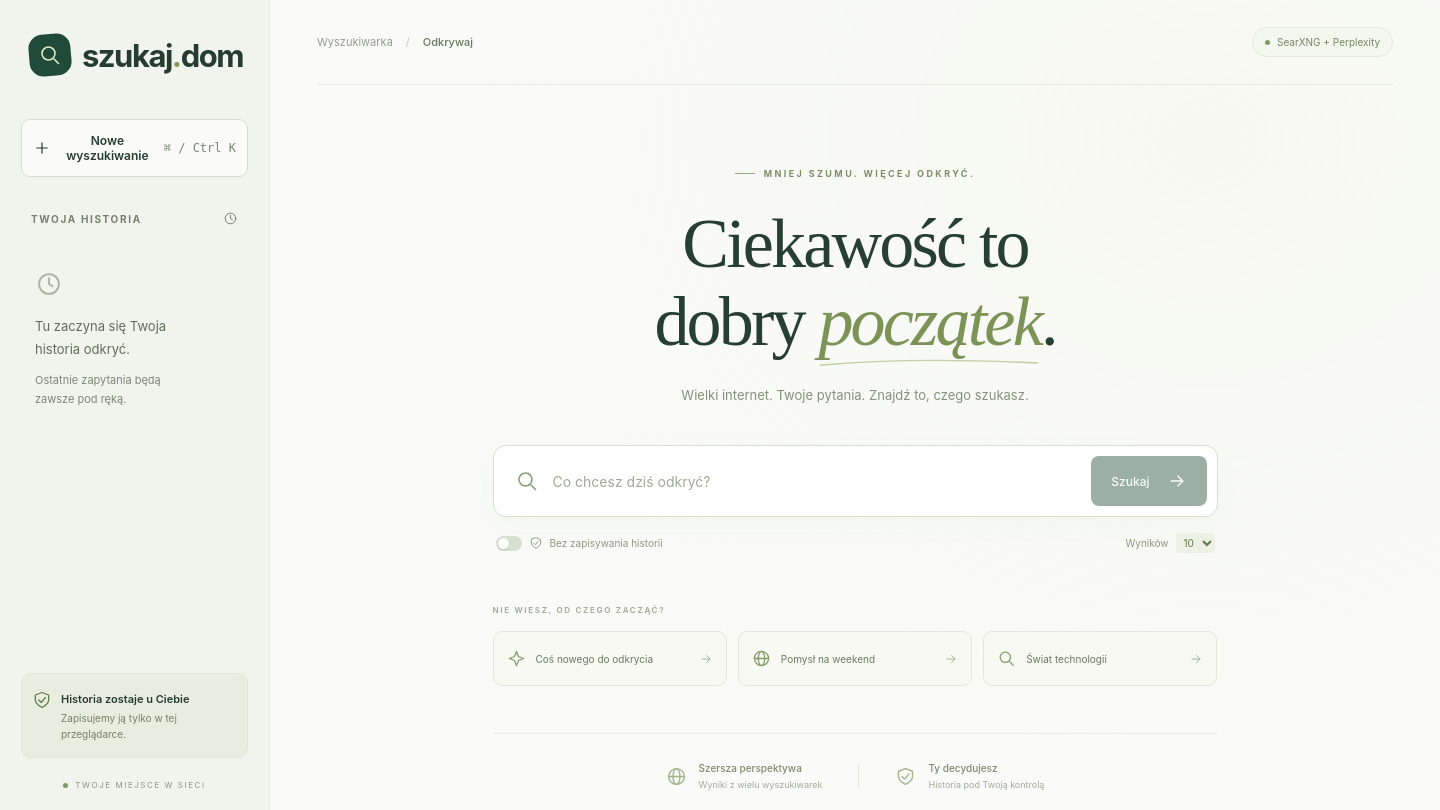
search application › renders successful empty status without a provider failure alert
The image size is (1440, 810).
Type "Pomorze" into the field named "Czego szukasz?".
click(815, 481); type("Pomorze")  # box [552,465,1077,498]
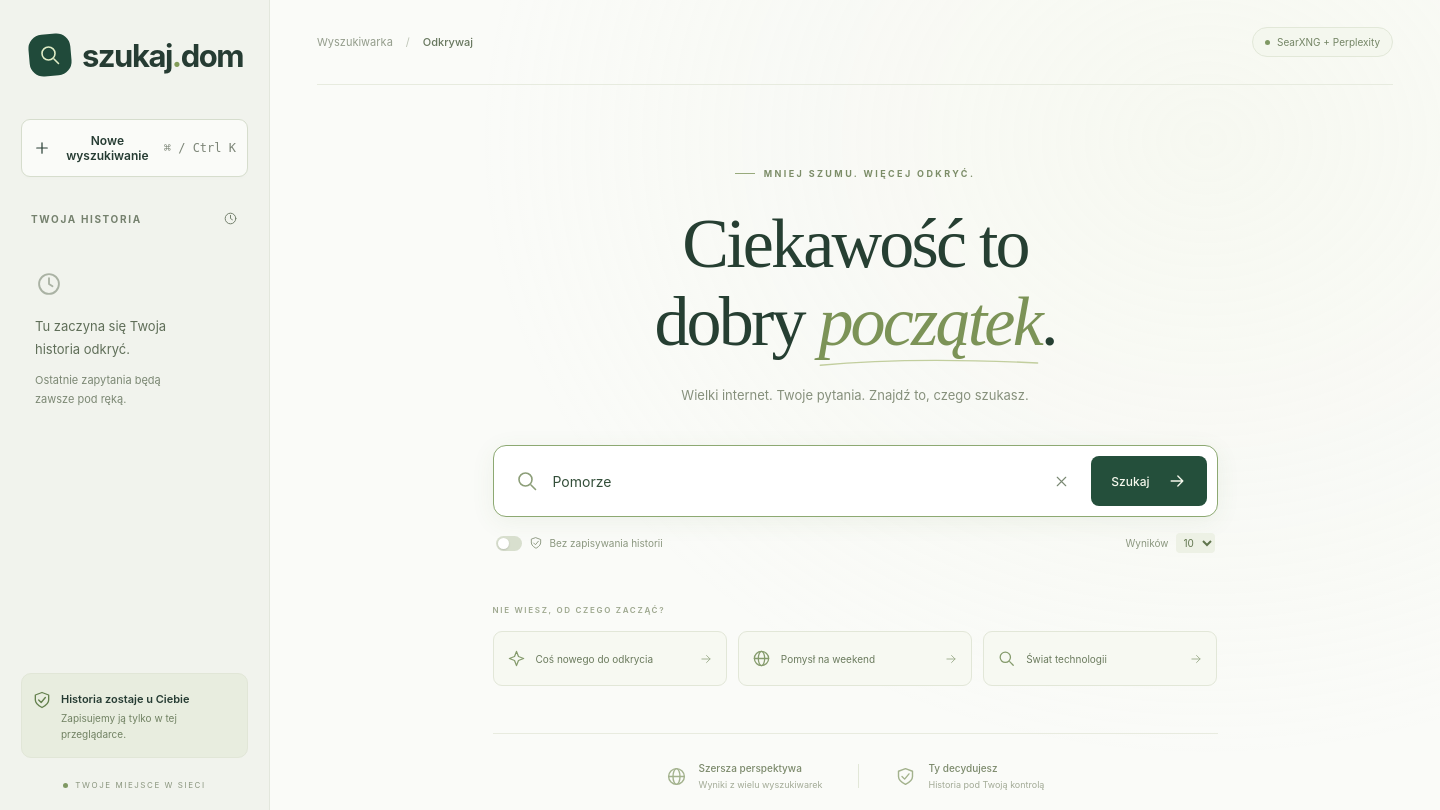
Click the button "Szukaj".
click(1149, 481)  # box [1091,456,1206,506]
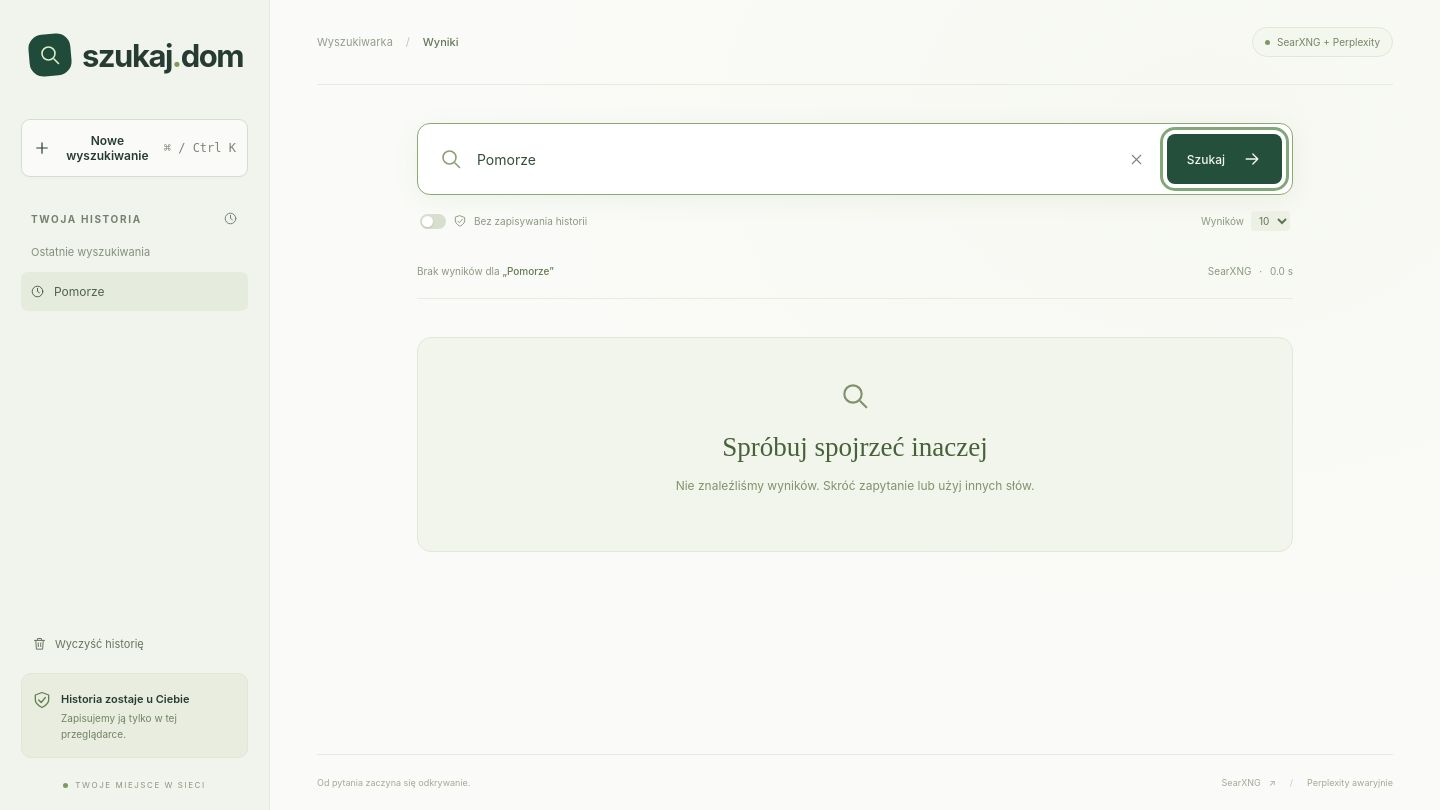
Expected: the heading "Spróbuj spojrzeć inaczej" is shown, [722,432,988,462]
